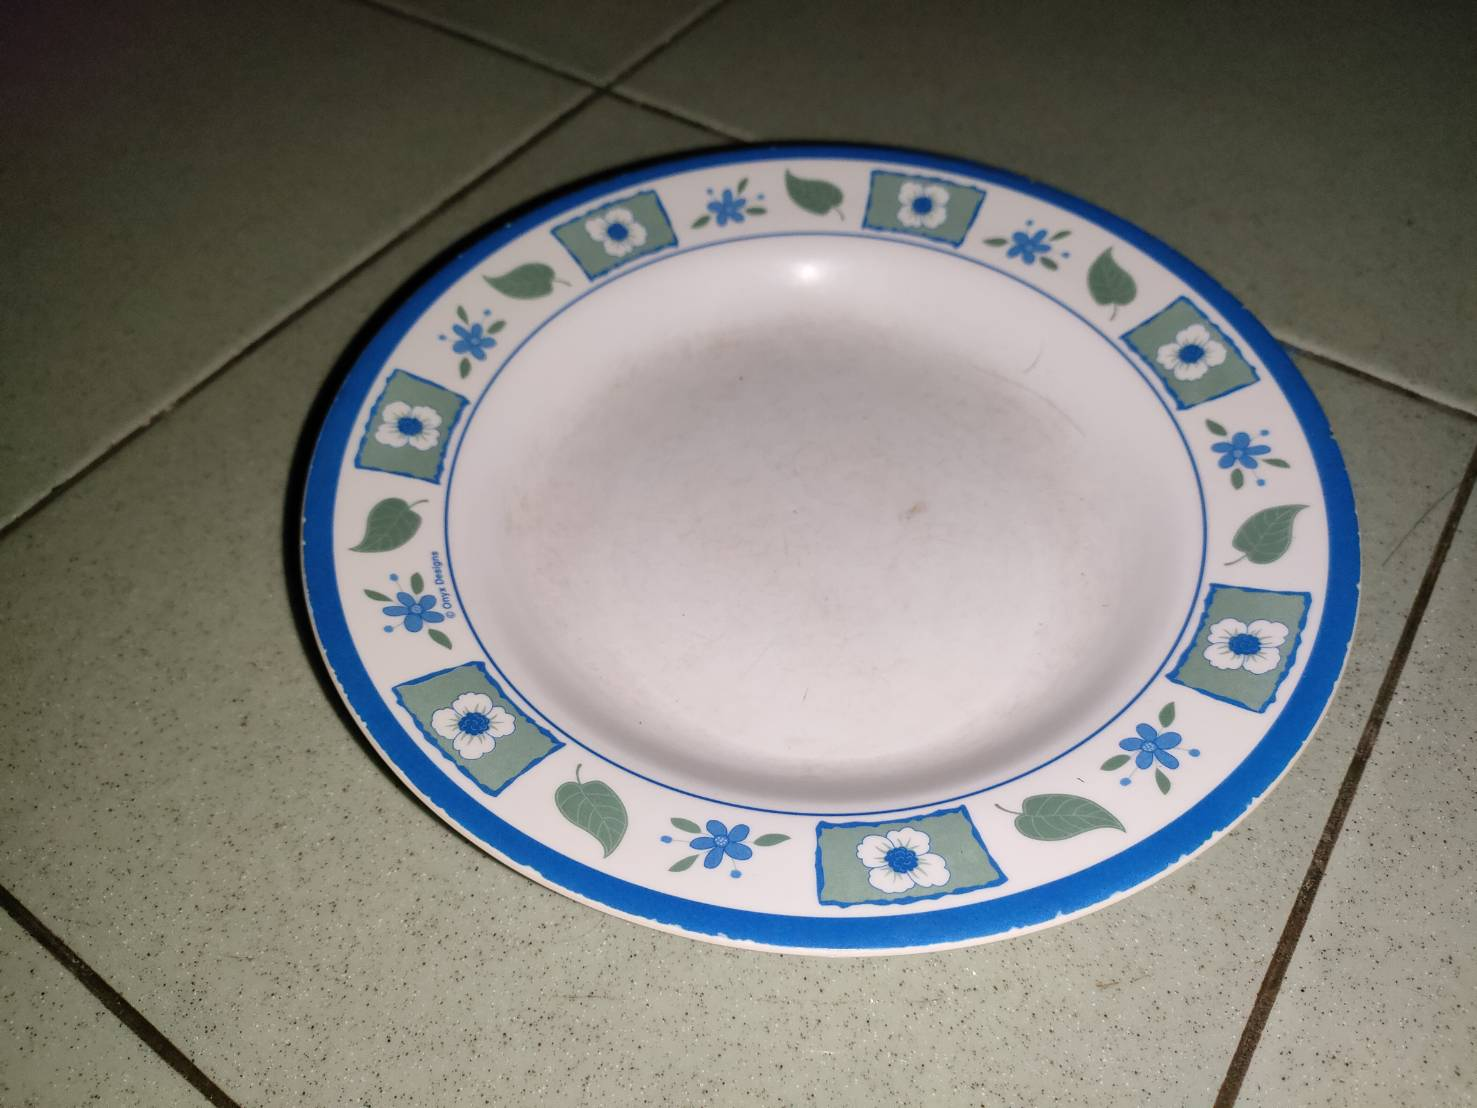piring: (301, 145, 1366, 952)
